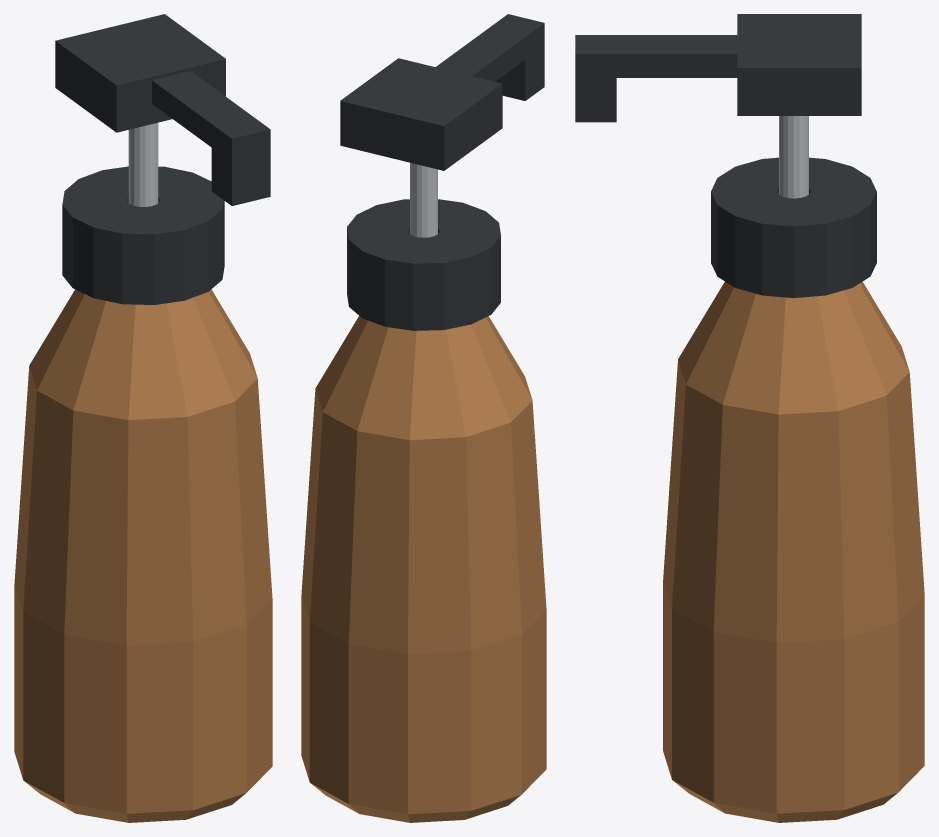
3 renders of one model, left to right at view 1: azimuth 30°, elevation 25°; view 2: azimuth 150°, elevation 25°; view 3: azimuth 270°, elevation 25°, orthographic. The views are drawn at different scales.
Visible parts, largest first — view 1: OpaqueFacetedBottleExteriorWithNeck, IntegralPressPadAndOpenDownturnedLongNozzle, SeparateNeckSeatedCapAndShaftOpening, FixedSlenderPumpShaft; view 2: OpaqueFacetedBottleExteriorWithNeck, IntegralPressPadAndOpenDownturnedLongNozzle, SeparateNeckSeatedCapAndShaftOpening, FixedSlenderPumpShaft; view 3: OpaqueFacetedBottleExteriorWithNeck, IntegralPressPadAndOpenDownturnedLongNozzle, SeparateNeckSeatedCapAndShaftOpening, FixedSlenderPumpShaft.
Boxes of the visible parts, x1,y1,x2,y2 form: OpaqueFacetedBottleExteriorWithNeck: [14, 289, 272, 822]; IntegralPressPadAndOpenDownturnedLongNozzle: [55, 14, 270, 205]; SeparateNeckSeatedCapAndShaftOpening: [62, 166, 224, 304]; FixedSlenderPumpShaft: [128, 122, 158, 206]; OpaqueFacetedBottleExteriorWithNeck: [301, 316, 546, 822]; IntegralPressPadAndOpenDownturnedLongNozzle: [340, 14, 544, 170]; SeparateNeckSeatedCapAndShaftOpening: [347, 199, 500, 330]; FixedSlenderPumpShaft: [410, 162, 437, 237]; OpaqueFacetedBottleExteriorWithNeck: [663, 281, 924, 822]; IntegralPressPadAndOpenDownturnedLongNozzle: [575, 14, 861, 122]; SeparateNeckSeatedCapAndShaftOpening: [711, 157, 876, 297]; FixedSlenderPumpShaft: [779, 116, 808, 198].
Size of the model in its own units: 0.0694 by 0.215 by 0.0927.
